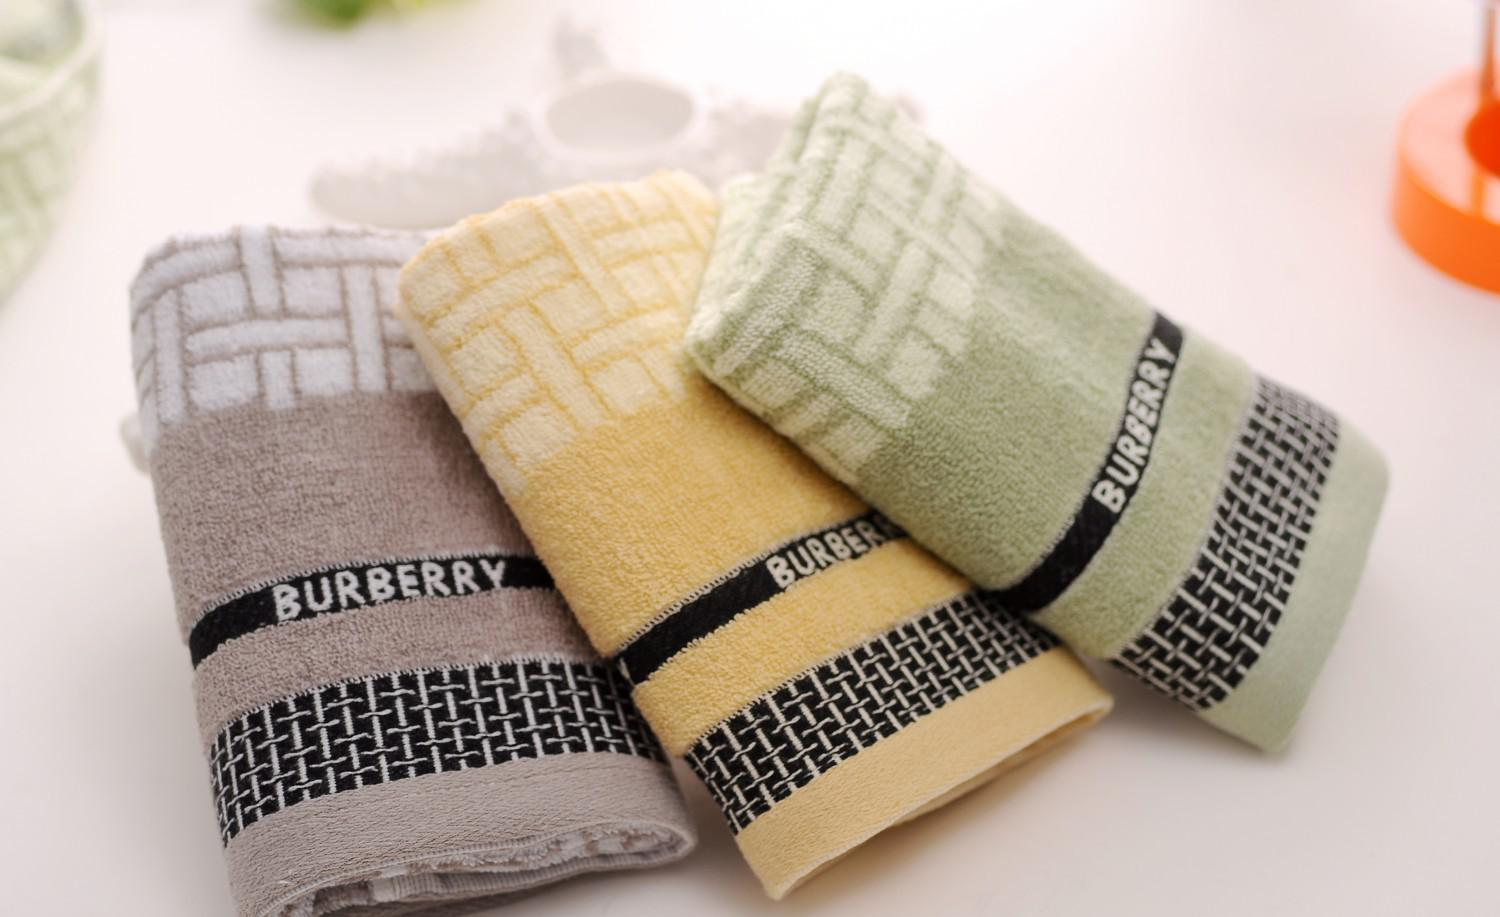flexible: (92, 66, 1395, 908)
